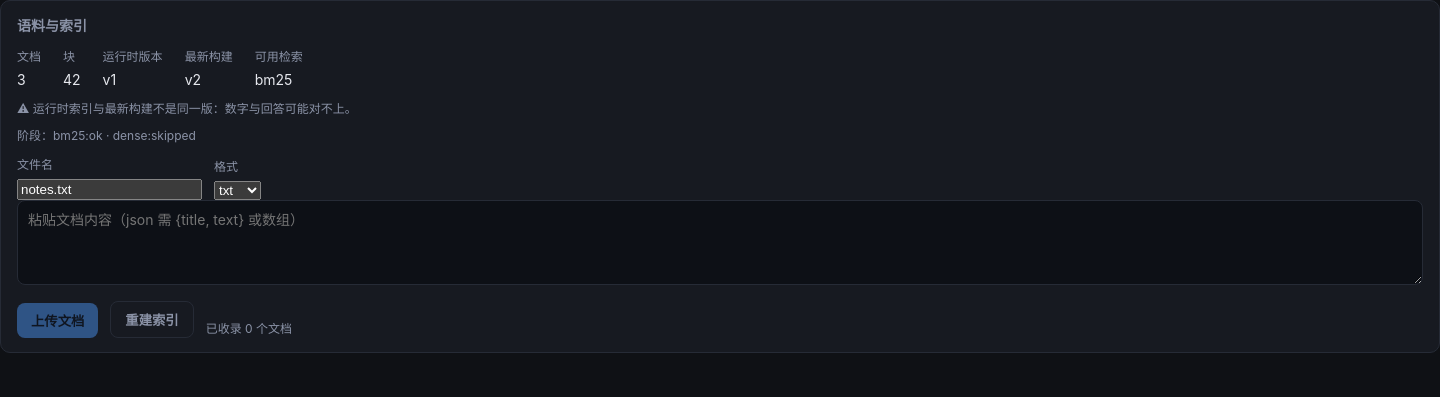
Test: CorpusPanel › 上传失败时把错误显示出来而不是静默
The width and height of the screenshot is (1440, 397).
Step 1. Type "hello" into the text box labelled "文档内容" → {"x": 720, "y": 242}, box x1=17 y1=200 x2=1423 y2=285
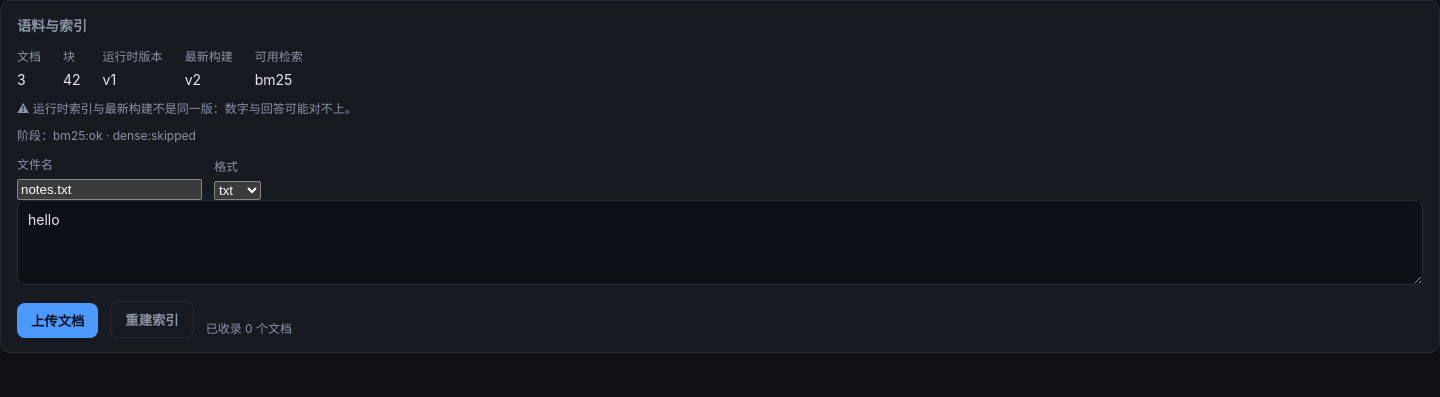
Step 2. Click the button "上传文档" → {"x": 58, "y": 321}, box x1=17 y1=303 x2=98 y2=338
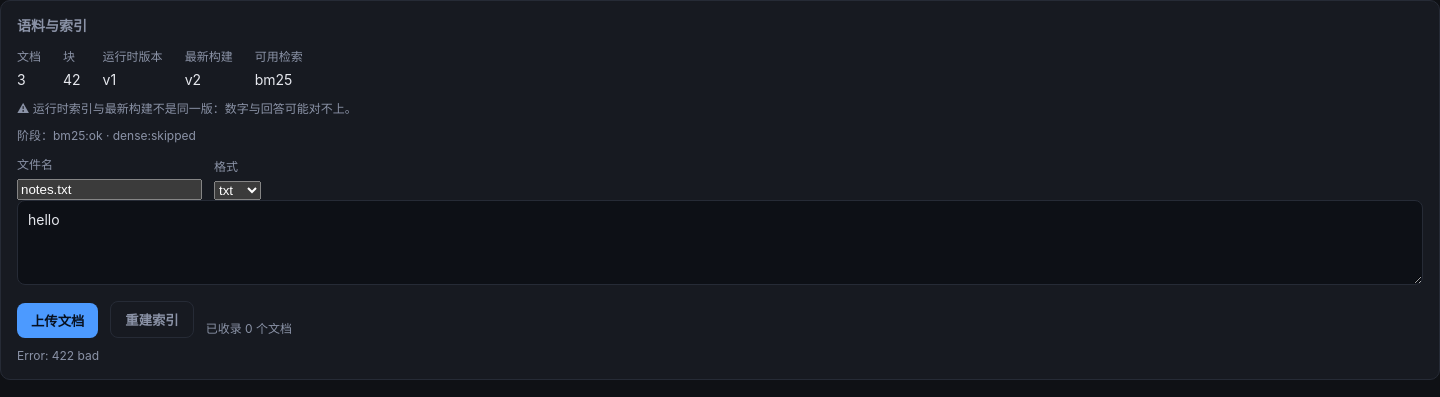
Check: the text "Error: 422 bad" is shown, box x1=17 y1=348 x2=99 y2=363
